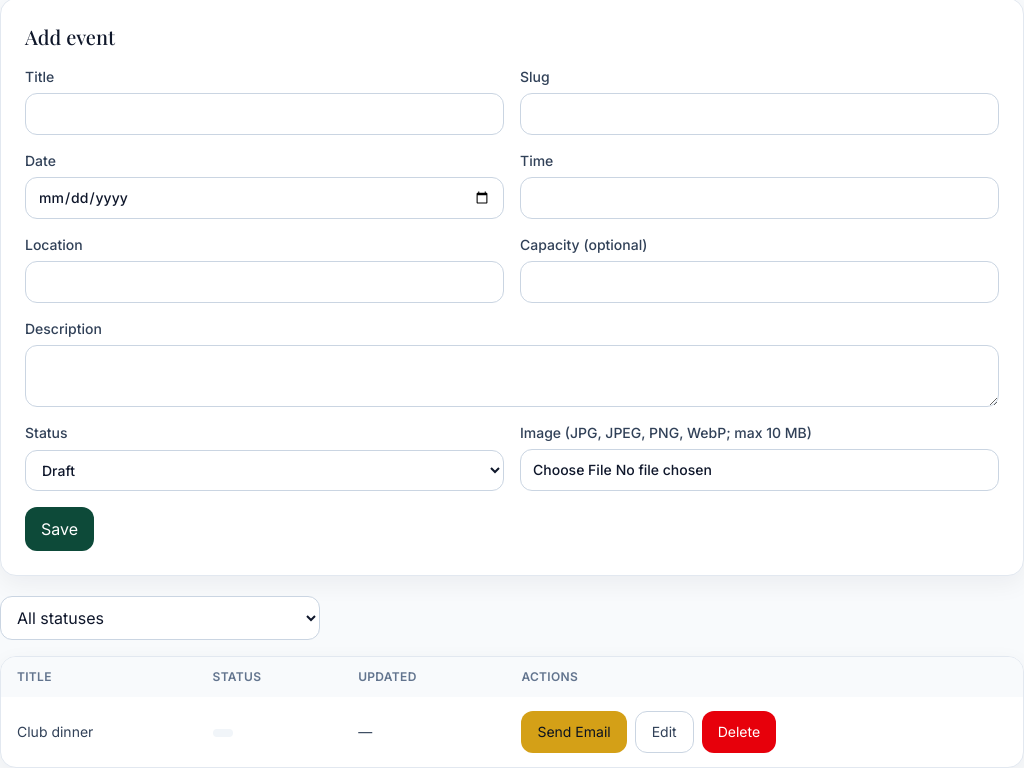
Test case: all operations routes render API records and visible errors › confirms sending to all eligible members and shows skipped results
(page scrolled)
Click the button "Send Email". click: (574,732)
box: [521,711,627,753]
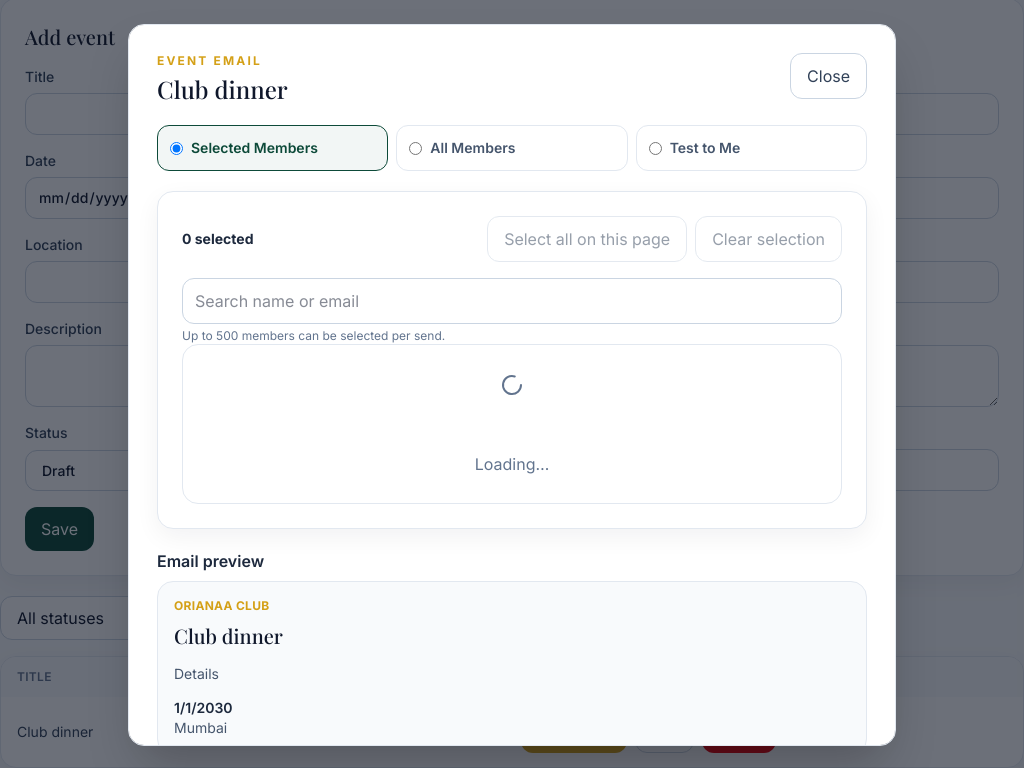
Click the radio button labelled "All Members". click: (416,148)
box: [409,142,422,154]
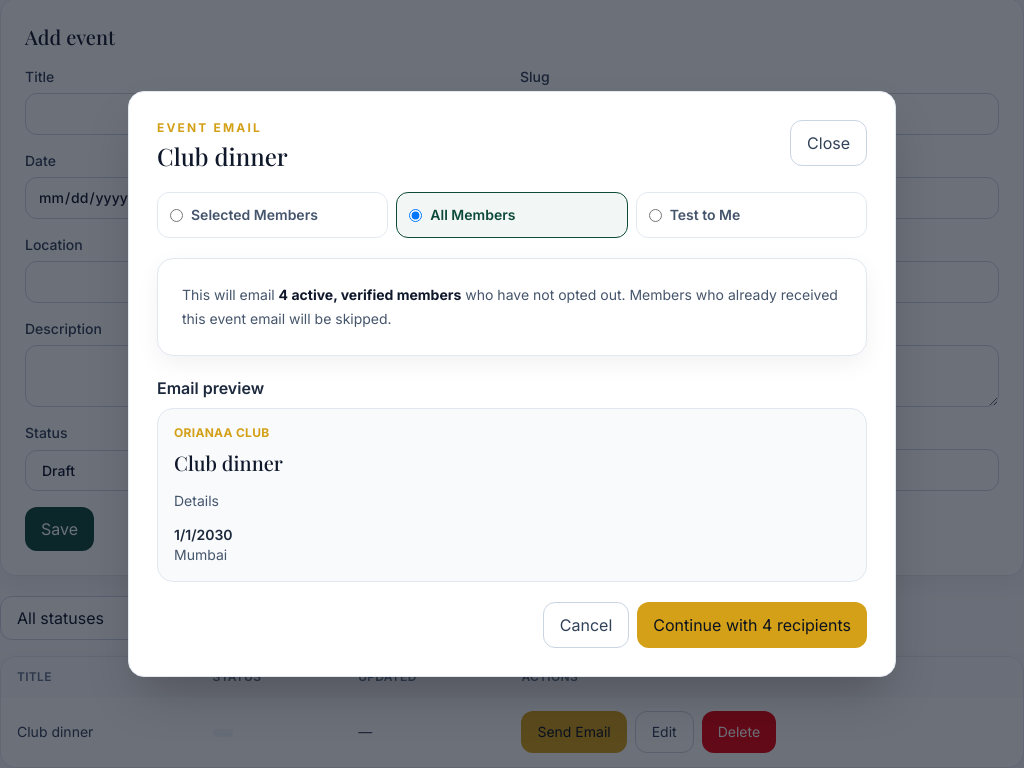
expect the text "This will email" is shown: met, box [182,286,279,303]
Click the button "Continue with 4 recipients". click: (752,625)
box: [637,602,867,648]
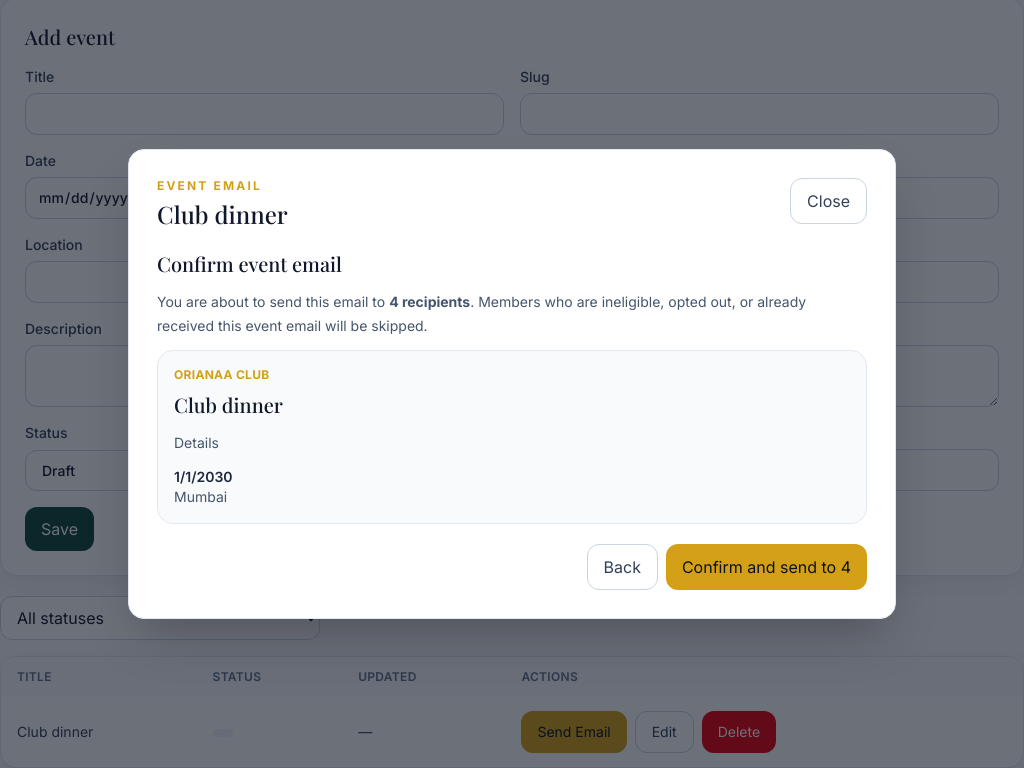
expect the heading "Confirm event email" is shown: met, box [157,250,342,277]
Click the button "Confirm and send to 4". click: (766,567)
box: [666,544,867,590]
(page scrolled)
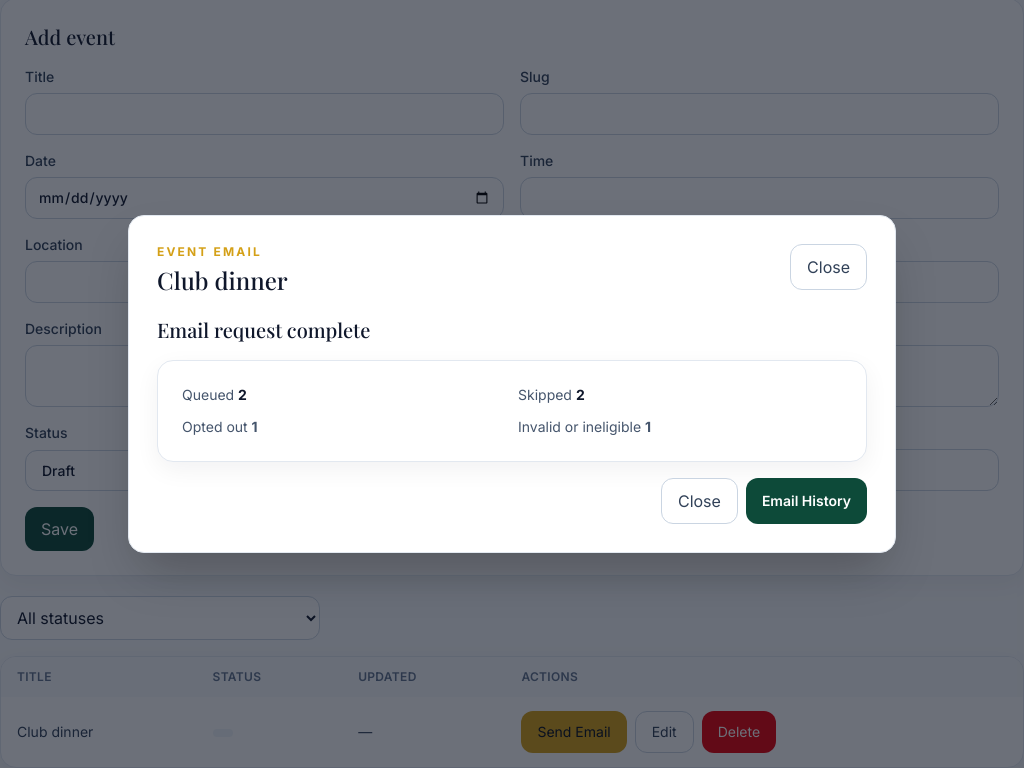
expect the heading "Email request complete" is shown: met, box [157,316,370,343]
expect the text "Skipped 2" is shown: met, box [518,386,585,403]
expect the text "Opted out 1" is shown: met, box [182,418,258,435]
